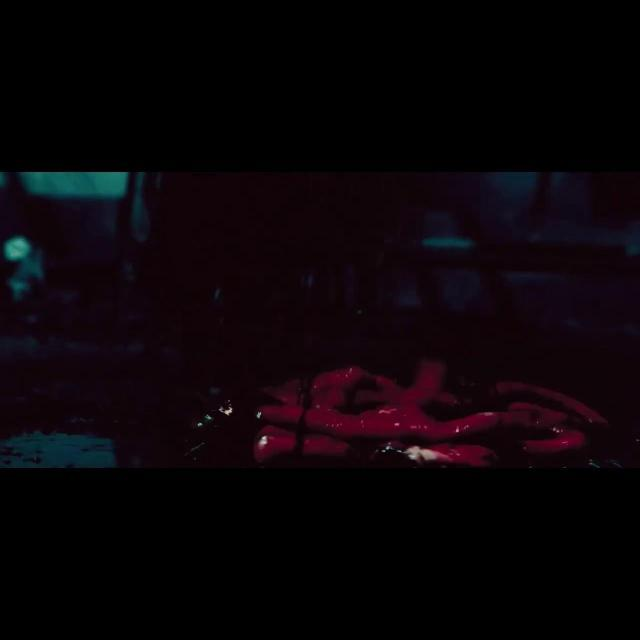blood: (182, 362, 628, 468)
